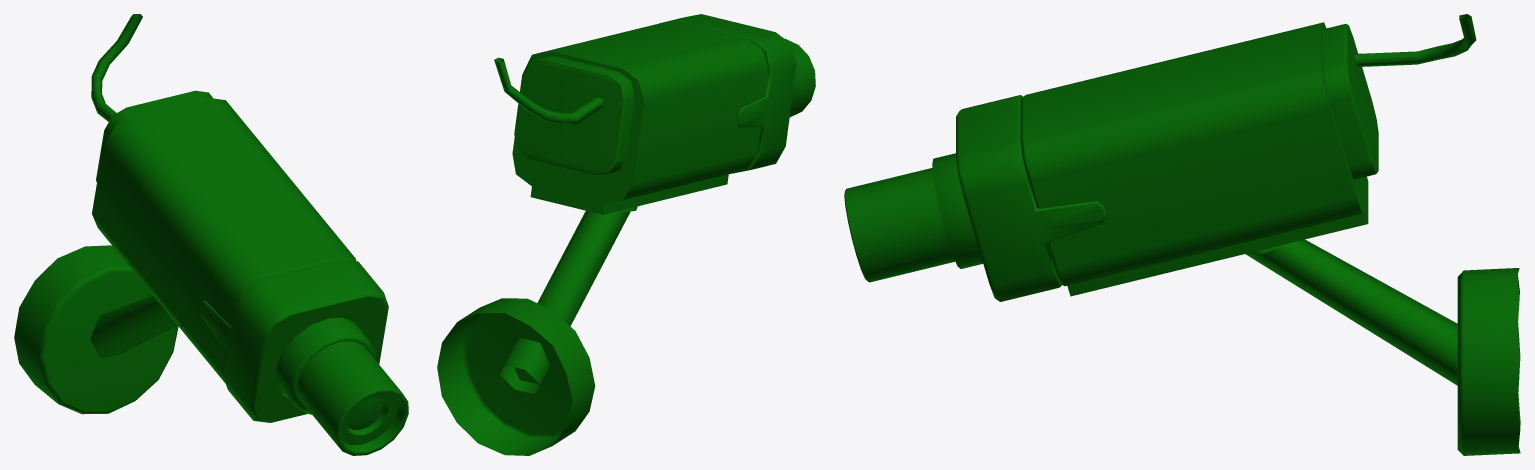
The model's file is CCTV.fbx.
3 views of the same model, side by side, from view 1: azimuth 30°, elevation 25°; view 2: azimuth 150°, elevation 25°; view 3: azimuth 270°, elevation 25° (orthographic). The views are drawn at different scales.
Parts seen in each view (by area): view 1: CCTV; view 2: CCTV; view 3: CCTV.
Part boxes in pixels (x1,y1,x2,y2): CCTV: (14, 14, 408, 455); CCTV: (437, 14, 815, 455); CCTV: (844, 14, 1520, 455).
Bounding box in the file's own units: 14.84 × 39.1 × 53.55.
